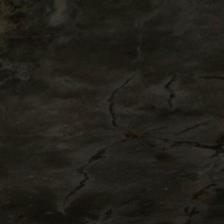Crack: (109, 12, 158, 130), (64, 141, 132, 211), (150, 137, 219, 158), (180, 180, 218, 218), (161, 73, 184, 117), (178, 116, 217, 135)
